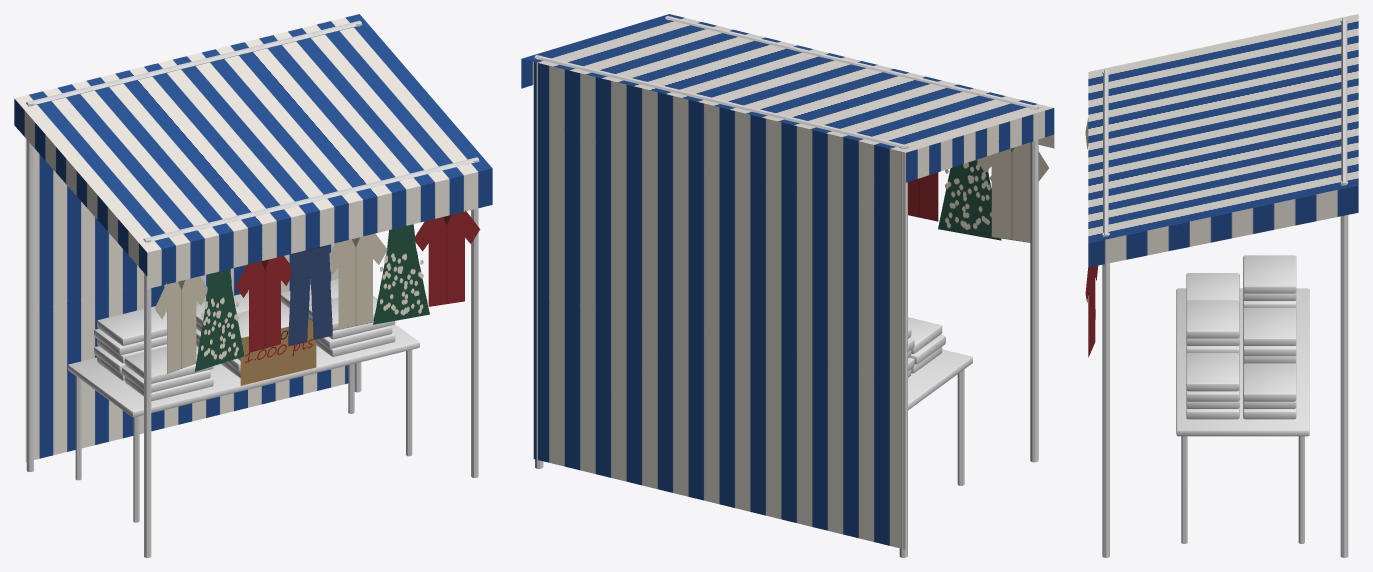
The model's file is CITY_Market_Stall_Ropa.fbx.
The picture shows the model from 3 angles, left to right: view 1: azimuth 30°, elevation 25°; view 2: azimuth 150°, elevation 25°; view 3: azimuth 270°, elevation 25°; orthographic projection. The views are drawn at different scales.
Visible parts, largest first — view 1: CITY_Market_Stall_Ropa; view 2: CITY_Market_Stall_Ropa; view 3: CITY_Market_Stall_Ropa.
Boxes of the visible parts, x1,y1,x2,y2 form: CITY_Market_Stall_Ropa: (14,14,492,557); CITY_Market_Stall_Ropa: (521,14,1054,557); CITY_Market_Stall_Ropa: (1085,14,1358,557).
Bounding box in the file's own units: 2.28 × 2.33 × 1.54.
